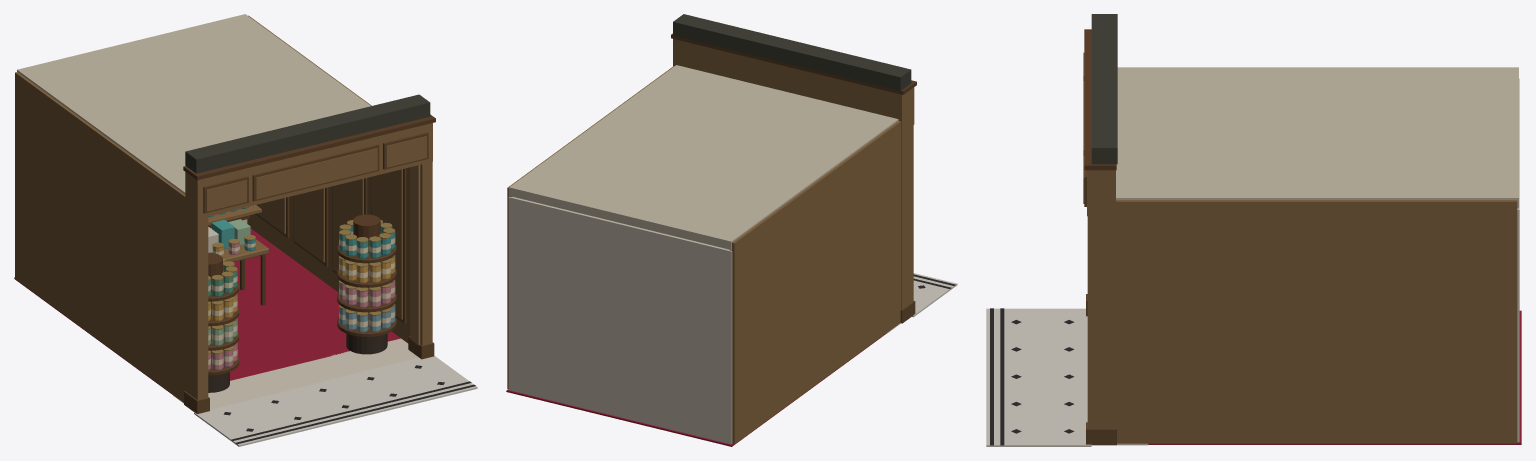
The model's file is tea-shop.glb.
3 views of the same model, side by side, from view 1: azimuth 30°, elevation 25°; view 2: azimuth 150°, elevation 25°; view 3: azimuth 270°, elevation 25° (orthographic). The views are drawn at different scales.
Visible parts, largest first — view 1: TeaShop; view 2: TeaShop; view 3: TeaShop.
Part boxes in pixels (bbox=[...]): TeaShop: bbox=[14, 14, 477, 446]; TeaShop: bbox=[506, 14, 957, 446]; TeaShop: bbox=[986, 14, 1521, 446].
Size of the model in its own units: 3 by 3.05 by 4.97.
